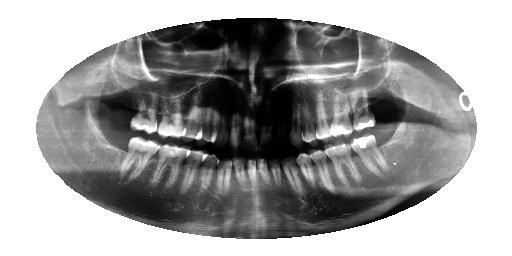Fillings: (352, 133, 386, 177), (158, 90, 186, 141), (131, 93, 160, 133), (330, 93, 354, 137), (351, 89, 375, 130)
